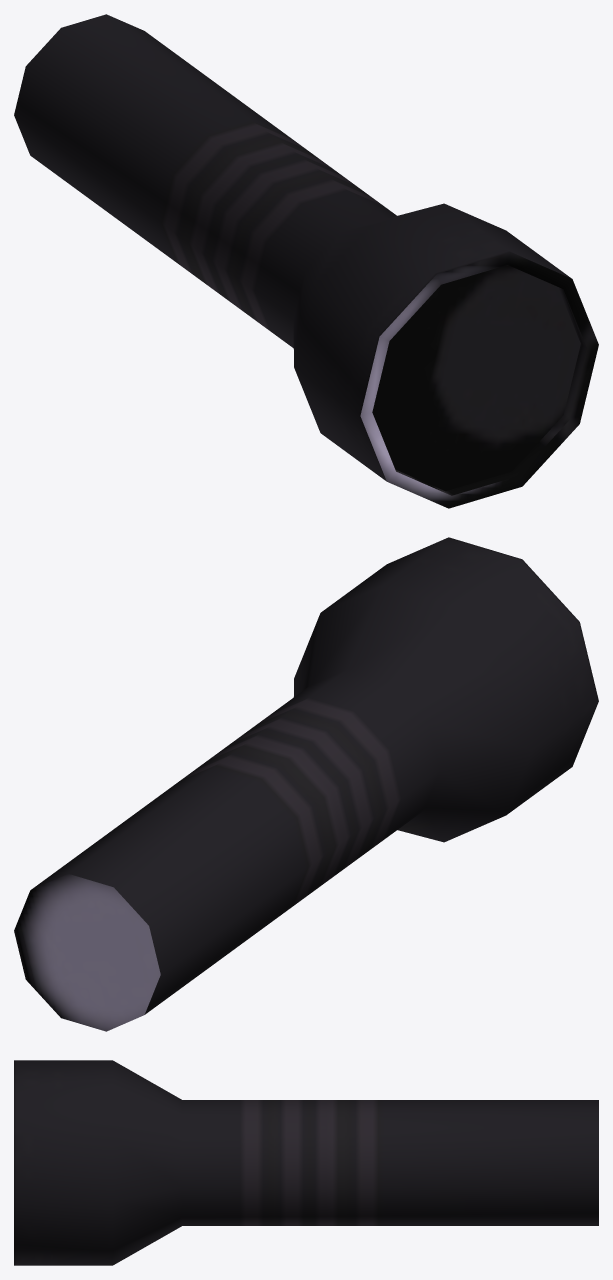
Rendered from UV_Light.FBX.
3 renders of one model, top to bottom at view 1: azimuth 30°, elevation 25°; view 2: azimuth 150°, elevation 25°; view 3: azimuth 270°, elevation 25°, orthographic. The views are drawn at different scales.
Parts seen in each view (by area): view 1: UVW_Torch; view 2: UVW_Torch; view 3: UVW_Torch.
Part boxes in pixels (x1,y1,x2,y2): UVW_Torch: (14,14,598,508); UVW_Torch: (14,537,598,1031); UVW_Torch: (14,1060,598,1265).
Size of the model in its own units: 10.38 by 10.04 by 29.56.
